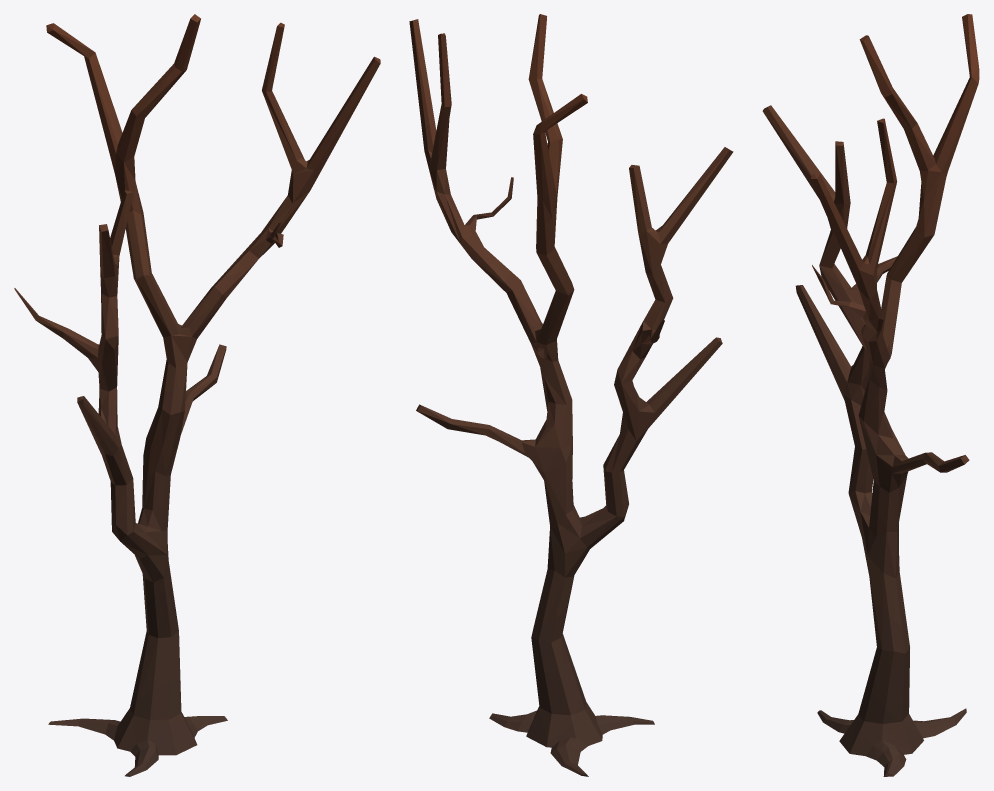
File: arvore_seca_p.glb
3 renders of one model, left to right at view 1: azimuth 30°, elevation 25°; view 2: azimuth 150°, elevation 25°; view 3: azimuth 270°, elevation 25°, orthographic. The views are drawn at different scales.
Parts seen in each view (by area): view 1: SmallWitheredTreeB; view 2: SmallWitheredTreeB; view 3: SmallWitheredTreeB.
Part boxes in pixels (x1,y1,x2,y2): SmallWitheredTreeB: (14,14,380,776); SmallWitheredTreeB: (409,14,733,776); SmallWitheredTreeB: (762,14,979,776).
Bounding box in the file's own units: 2.14 × 4.7 × 1.28.
1 material, 1 textured.
